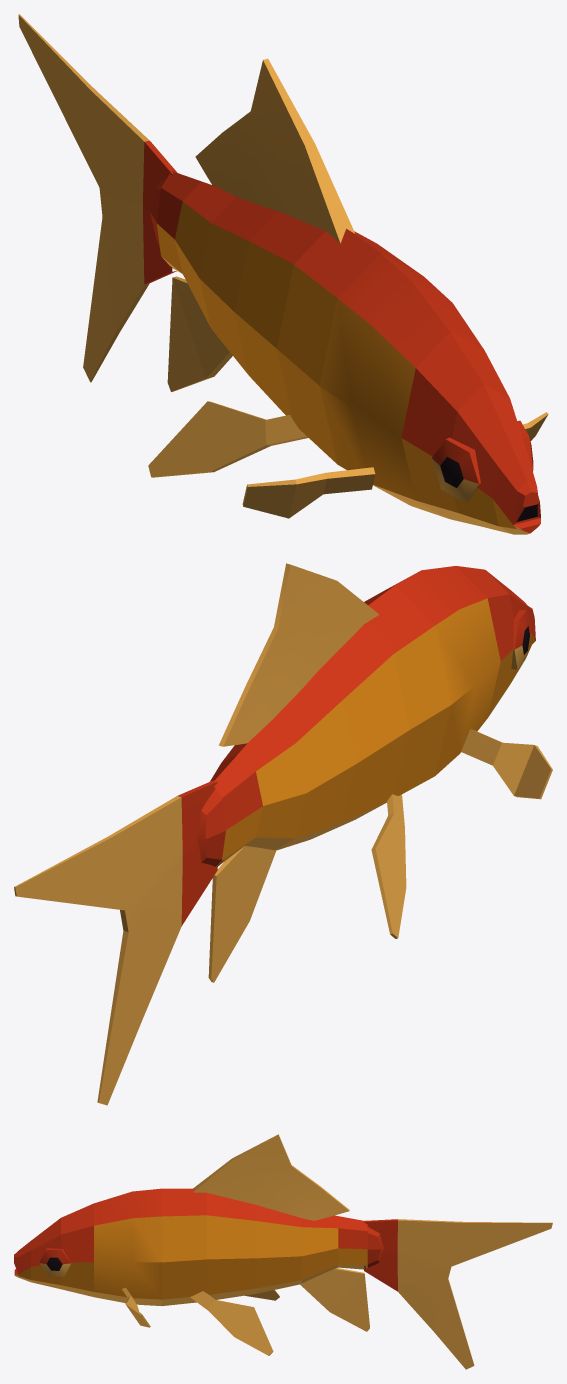
The model's file is goldfish-anim.glb.
3 renders of one model, top to bottom at view 1: azimuth 30°, elevation 25°; view 2: azimuth 150°, elevation 25°; view 3: azimuth 270°, elevation 25°, orthographic. The views are drawn at different scales.
Visible parts, largest first — view 1: body, tail, upperFin, lowerBackRightFin, lowerRightFin; view 2: body, tail, upperFin, lowerRightFin, lowerBackRightFin; view 3: body, tail, upperFin, lowerBackLeftFin, lowerLeftFin.
Boxes of the visible parts, bbox=[...] form: body: bbox=[156, 170, 540, 534]; tail: bbox=[18, 14, 177, 382]; upperFin: bbox=[195, 58, 355, 243]; lowerBackRightFin: bbox=[148, 401, 308, 477]; lowerRightFin: bbox=[242, 467, 375, 518]; body: bbox=[208, 566, 535, 982]; tail: bbox=[14, 780, 225, 1105]; upperFin: bbox=[218, 563, 379, 746]; lowerRightFin: bbox=[461, 729, 552, 799]; lowerBackRightFin: bbox=[371, 794, 406, 938]; body: bbox=[14, 1188, 369, 1331]; tail: bbox=[364, 1219, 552, 1369]; upperFin: bbox=[193, 1134, 349, 1220]; lowerBackLeftFin: bbox=[190, 1291, 273, 1355]; lowerLeftFin: bbox=[122, 1287, 150, 1327].
Bounding box in the file's own units: 1.18 × 1.74 × 3.67.
1 material, 1 textured.
